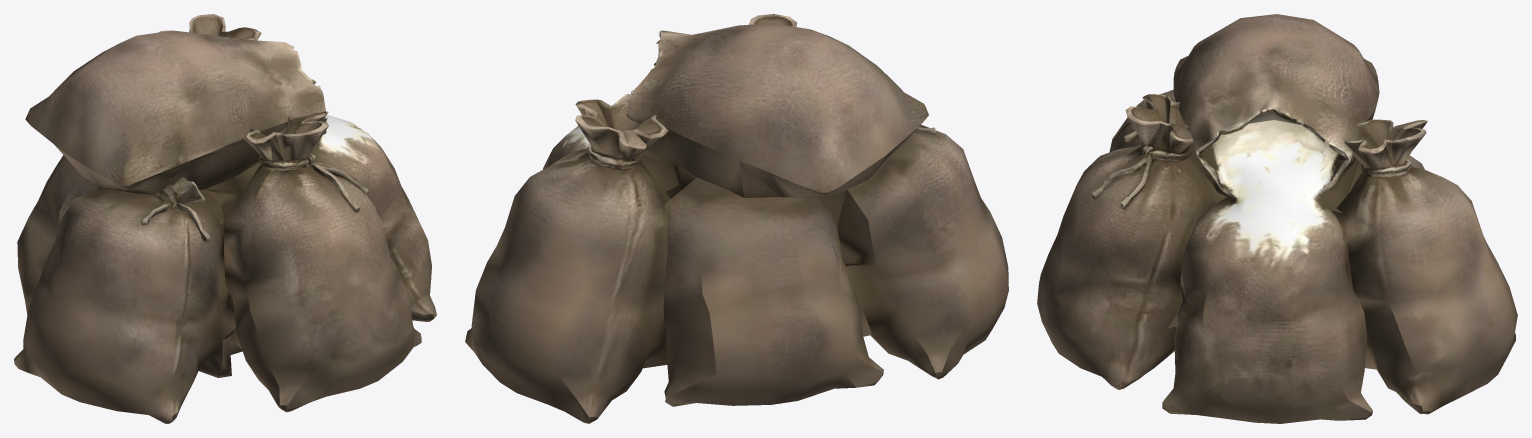
File: sacks.glb
The picture shows the model from 3 angles, left to right: view 1: azimuth 30°, elevation 25°; view 2: azimuth 150°, elevation 25°; view 3: azimuth 270°, elevation 25°; orthographic projection. The views are drawn at different scales.
Parts seen in each view (by area): view 1: model; view 2: model; view 3: model.
Boxes of the visible parts, x1,y1,x2,y2 form: model: (14, 14, 436, 423); model: (465, 14, 1008, 423); model: (1037, 14, 1517, 423).
Bounding box in the file's own units: 1.45 × 1 × 1.5.
Materials: 1 (1 with a texture image).
